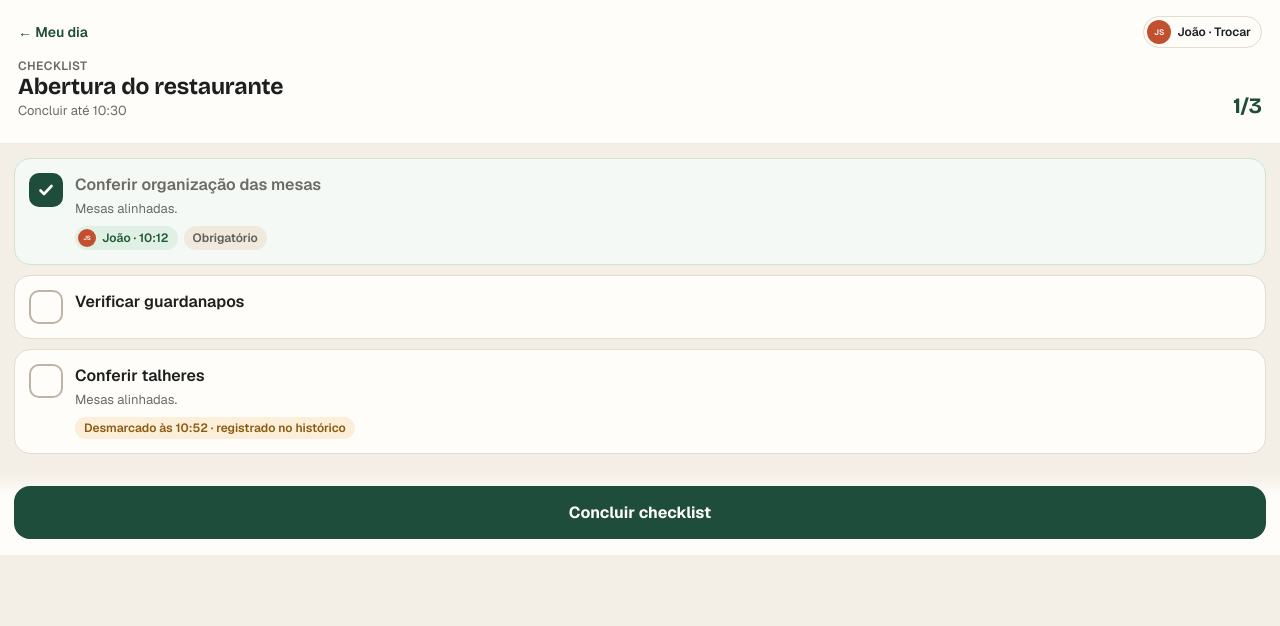
Scenario: US06 — concluir checklist (web) › obrigatório pendente mostra o banner de erro e fica na tela (erro)
Click the button "Concluir checklist". click: (640, 513)
box: [14,486,1266,539]
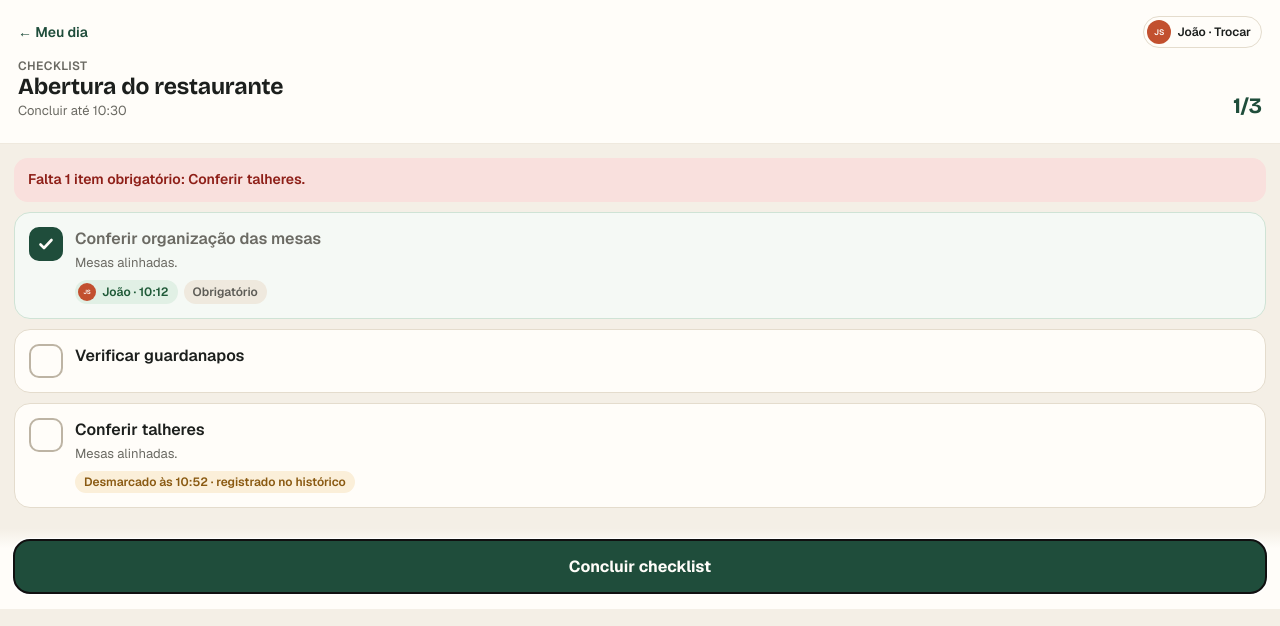
Expected: the text "Falta 1 item obrigatório: Conferir talheres." is shown, [14,158,1266,202]
